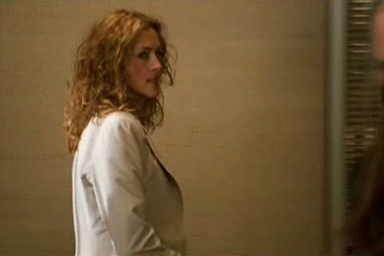face: (128, 40, 164, 99)
ms: (1, 1, 384, 256)
person: (63, 9, 186, 255)
